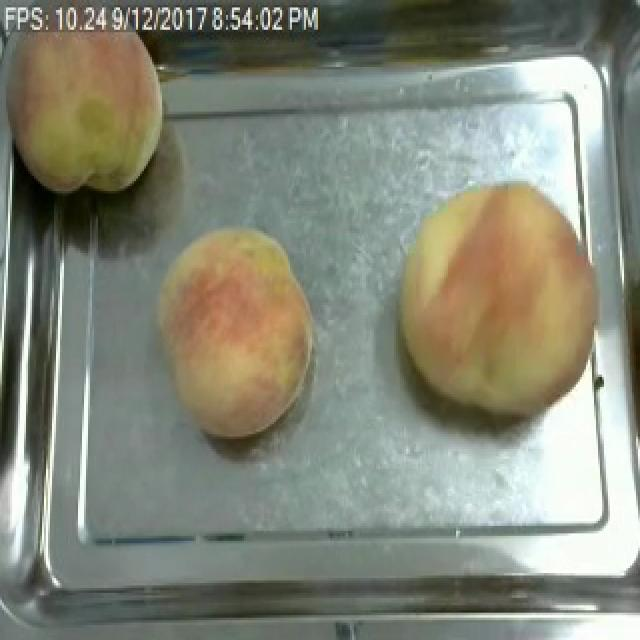Fruit: (388, 174, 616, 432), (144, 216, 322, 446), (0, 17, 172, 201)
